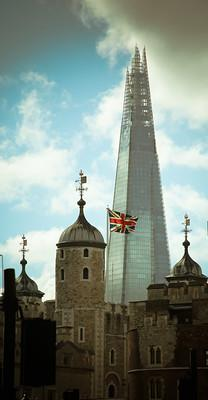building: (103, 41, 174, 319)
